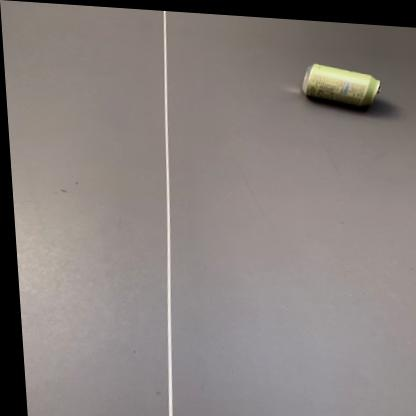trash: (302, 64, 380, 106)
